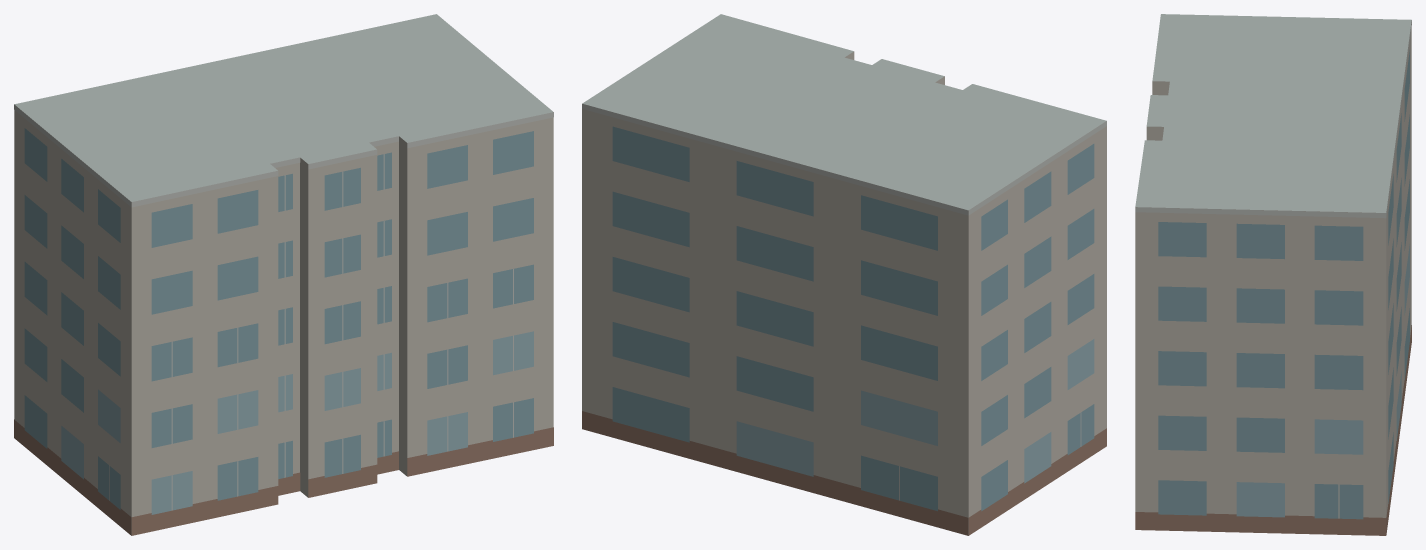
File: survey-upis-32542904.glb
3 renders of one model, left to right at view 1: azimuth 30°, elevation 25°; view 2: azimuth 150°, elevation 25°; view 3: azimuth 270°, elevation 25°, orthographic. The views are drawn at different scales.
Parts seen in each view (by area): view 1: survey-upis-32542904.tmp; view 2: survey-upis-32542904.tmp; view 3: survey-upis-32542904.tmp.
Boxes of the visible parts, box(x1,y1,x2,y2) form: survey-upis-32542904.tmp: box(14, 14, 553, 535); survey-upis-32542904.tmp: box(582, 14, 1106, 535); survey-upis-32542904.tmp: box(1135, 14, 1411, 535).
Bounding box in the file's own units: 20.17 × 15.25 × 11.85.
